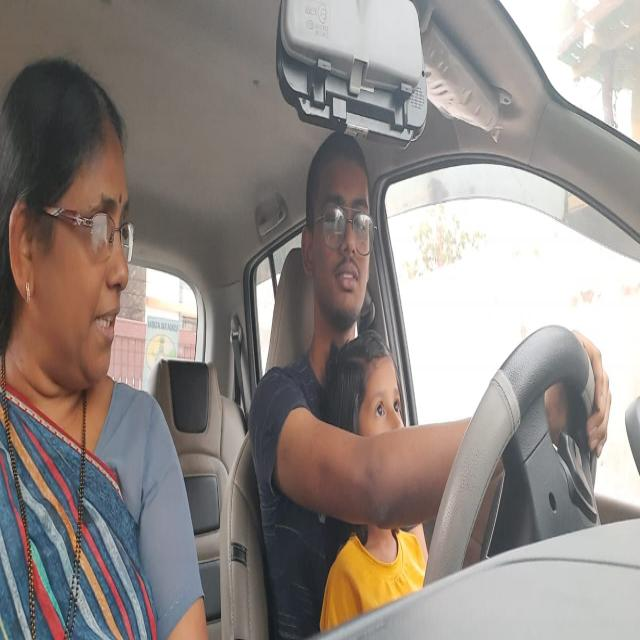child: (330, 331, 419, 432)
person: (3, 70, 136, 388), (304, 135, 376, 321)
